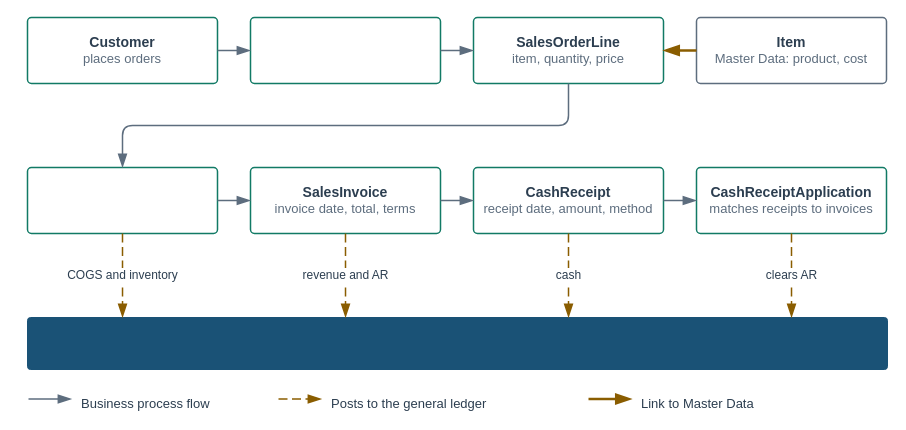
The diagram is 906 pixels wide and 430 high, and some of its shapes have lost their labels. The centre of each missing label's shape, as x and y in pixels:
GLEntry Accounting Core: every posting the cycle creates: (457,343)
SalesOrder customer, date, status: (345,50)
Shipment ship date, carrier, tracking: (122,200)
